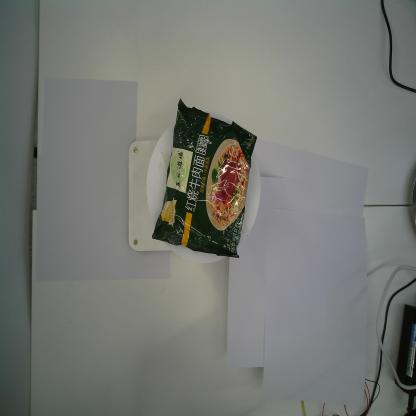Instant Noodles: (151, 98, 257, 259)
